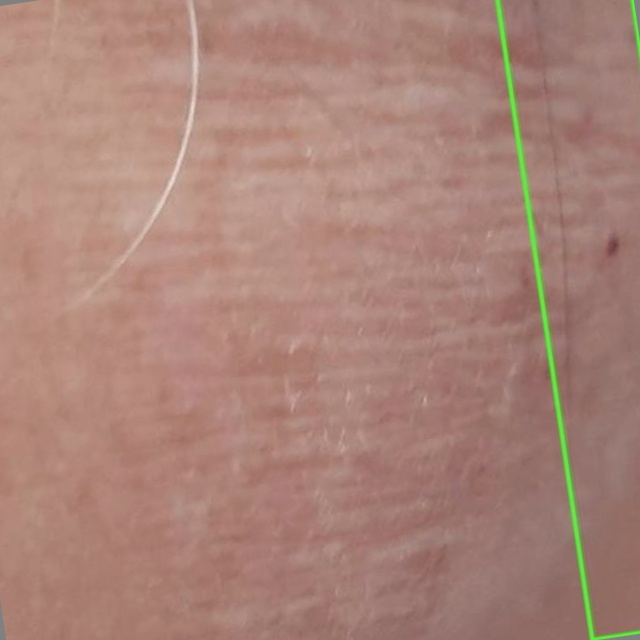Tinea Corporis: (497, 0, 639, 639)
